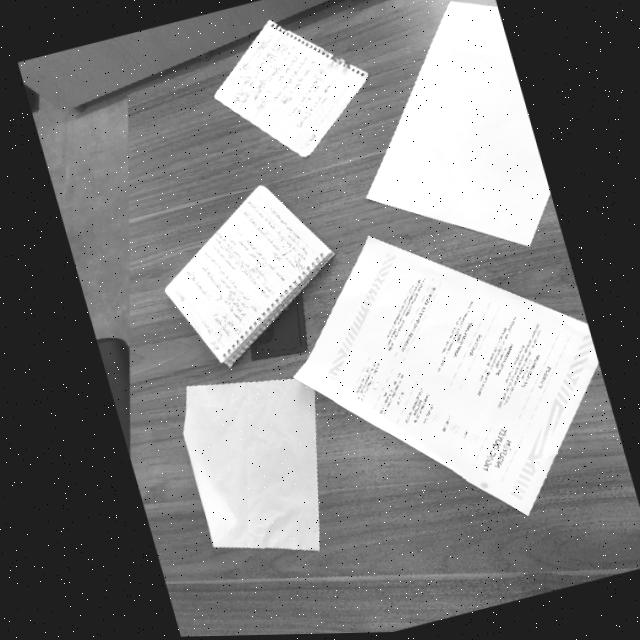document: (294, 236, 597, 515), (165, 185, 334, 366), (214, 20, 368, 156)
